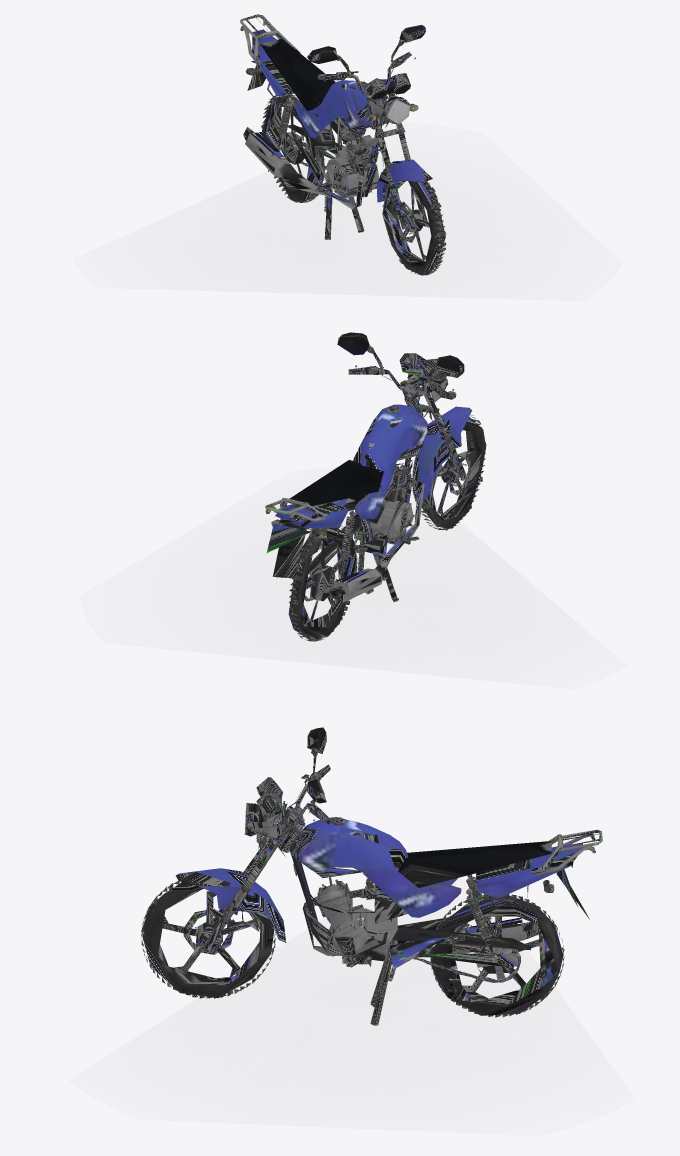
3 renders of one model, top to bottom at view 1: azimuth 30°, elevation 25°; view 2: azimuth 150°, elevation 25°; view 3: azimuth 270°, elevation 25°, orthographic. The views are drawn at different scales.
Parts seen in each view (by area): view 1: Cylinder.061, Cube, Cylinder.022, Plane.001, Cylinder.063, Cylinder.007, Cylinder, Plane.002, Plane.013, Plane.006, Cylinder.002, Cube.012 (+7 smaller); view 2: Plane.001, Cylinder.063, Cube, Plane.002, Cylinder.061, Cylinder.022, Cylinder.007, Plane.013, Cube.012, Plane.012, Plane.006, Cylinder.002 (+5 smaller); view 3: Cylinder.063, Plane.001, Cylinder.061, Cube, Cylinder.007, Plane.002, Plane.006, Plane.013, Cylinder, Plane.011, Cube.030, Cylinder.022 (+10 smaller).
Boxes of the visible parts, <box> form: Cylinder.061: <box>382,180,445,275</box>; Cube: <box>260,38,335,110</box>; Cylinder.022: <box>243,127,364,209</box>; Plane.001: <box>320,80,386,130</box>; Cylinder.063: <box>262,94,324,202</box>; Cylinder.007: <box>326,146,379,198</box>; Cylinder: <box>366,94,427,228</box>; Plane.002: <box>377,159,432,202</box>; Plane.013: <box>252,29,294,96</box>; Plane.006: <box>293,100,336,138</box>; Cylinder.002: <box>365,73,410,100</box>; Cube.012: <box>307,25,425,63</box>; Plane.001: <box>353,404,427,471</box>; Cylinder.063: <box>288,528,356,640</box>; Cube: <box>289,460,383,506</box>; Plane.002: <box>412,406,471,501</box>; Cylinder.061: <box>422,417,485,528</box>; Cylinder.022: <box>328,478,424,602</box>; Cylinder.007: <box>350,500,413,544</box>; Plane.013: <box>275,502,349,527</box>; Cube.012: <box>337,332,464,377</box>; Plane.012: <box>273,522,306,578</box>; Plane.006: <box>330,463,395,519</box>; Cylinder.002: <box>399,353,446,381</box>; Cylinder.063: <box>430,895,563,1015</box>; Plane.001: <box>290,817,408,873</box>; Cylinder.061: <box>142,882,274,997</box>; Cube: <box>398,841,551,887</box>; Cylinder.007: <box>327,907,397,964</box>; Plane.002: <box>175,868,286,942</box>; Plane.006: <box>363,870,461,917</box>; Plane.013: <box>476,843,582,898</box>; Cylinder: <box>203,806,294,949</box>; Plane.011: <box>392,925,530,950</box>; Cube.030: <box>162,891,259,977</box>; Cylinder.022: <box>302,896,538,957</box>.
Size of the model in its own units: 24818 by 9950 by 22625.
2 materials, 2 textured.
